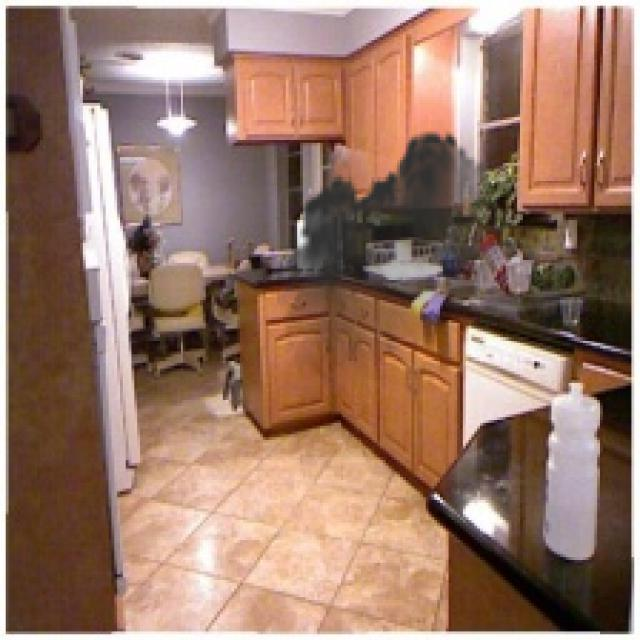smoke: (277, 120, 552, 397)
